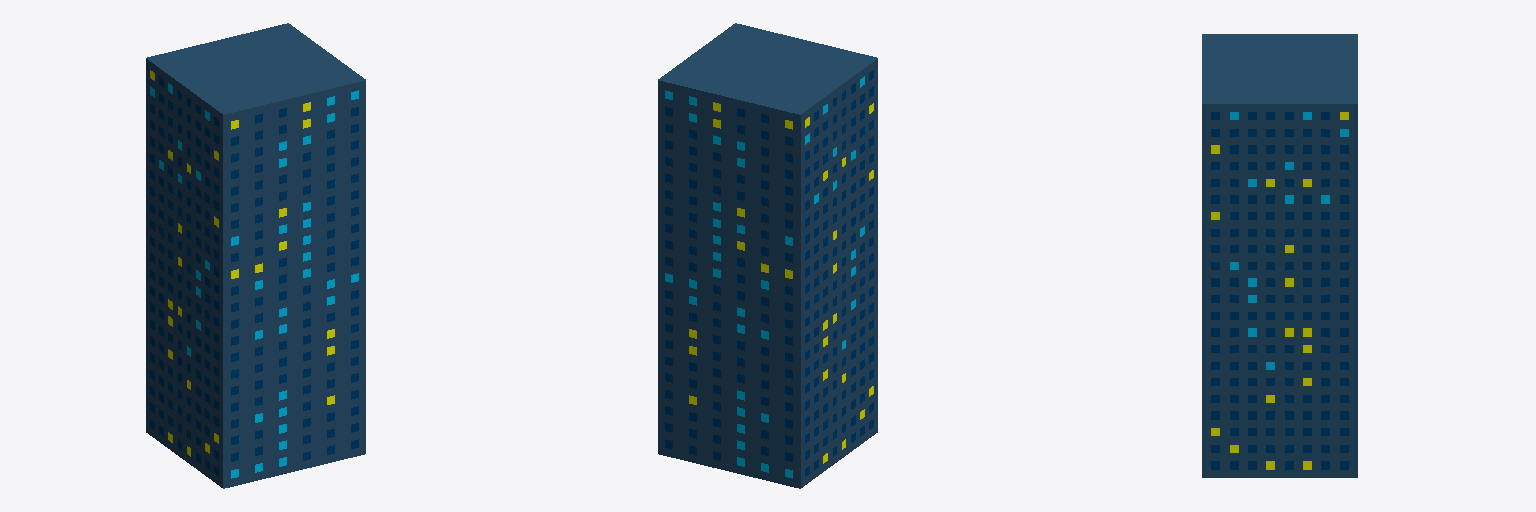
The picture shows the model from 3 angles: view 1: azimuth 30°, elevation 25°; view 2: azimuth 150°, elevation 25°; view 3: azimuth 270°, elevation 25°; orthographic projection.
Size of the model in its own units: 18 by 45 by 17.
Materials: 1 (1 with a texture image).